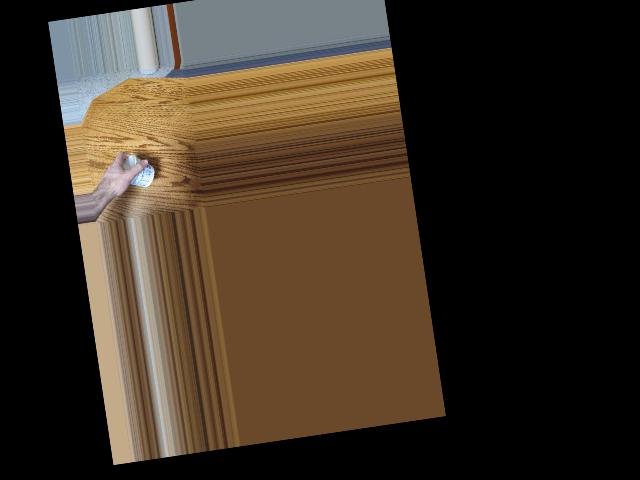cotage: (122, 151, 155, 187)
